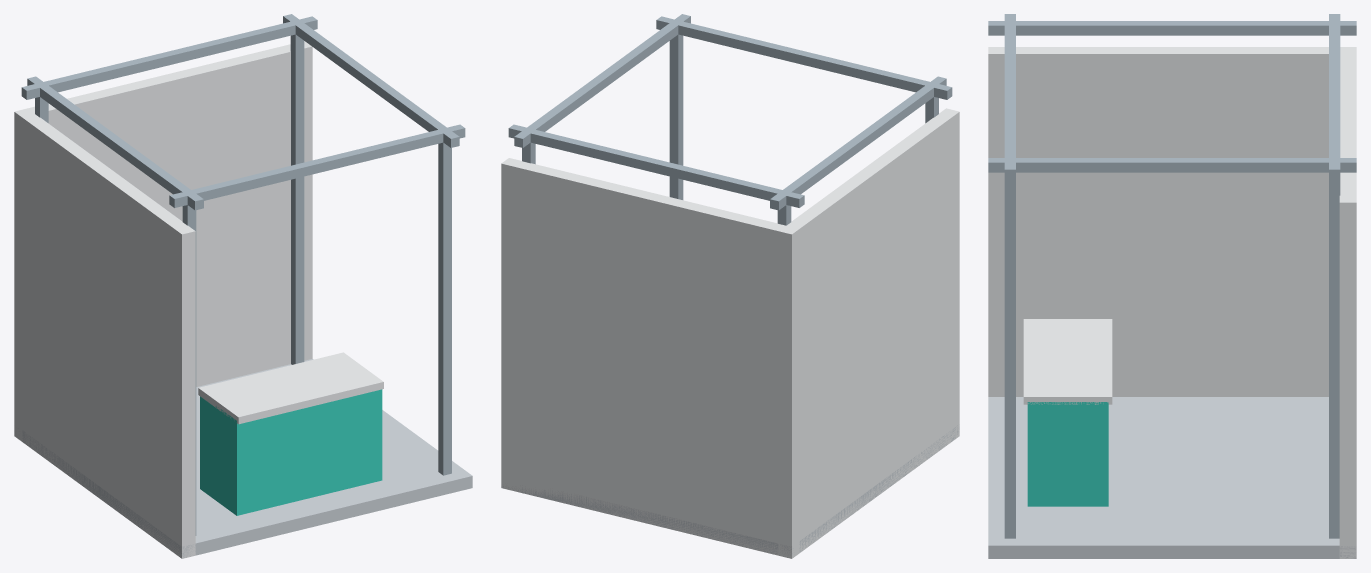
3 views of the same model, side by side, from view 1: azimuth 30°, elevation 25°; view 2: azimuth 150°, elevation 25°; view 3: azimuth 270°, elevation 25° (orthographic). The views are drawn at different scales.
Visible parts, largest first — view 1: Exhibition Booth Concept; view 2: Exhibition Booth Concept; view 3: Exhibition Booth Concept.
Part boxes in pixels (x1,y1,x2,y2): Exhibition Booth Concept: [14, 14, 472, 558]; Exhibition Booth Concept: [501, 14, 959, 558]; Exhibition Booth Concept: [988, 14, 1356, 558].
Size of the model in its own units: 3 by 3.49 by 3.
